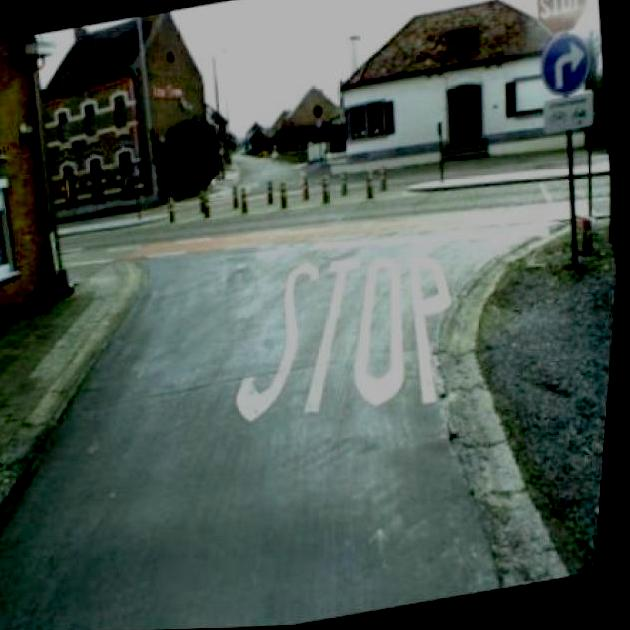stop_sign: (530, 0, 592, 41)
